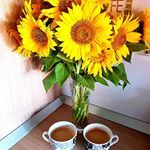cups: (39, 118, 79, 150), (81, 122, 121, 150)
